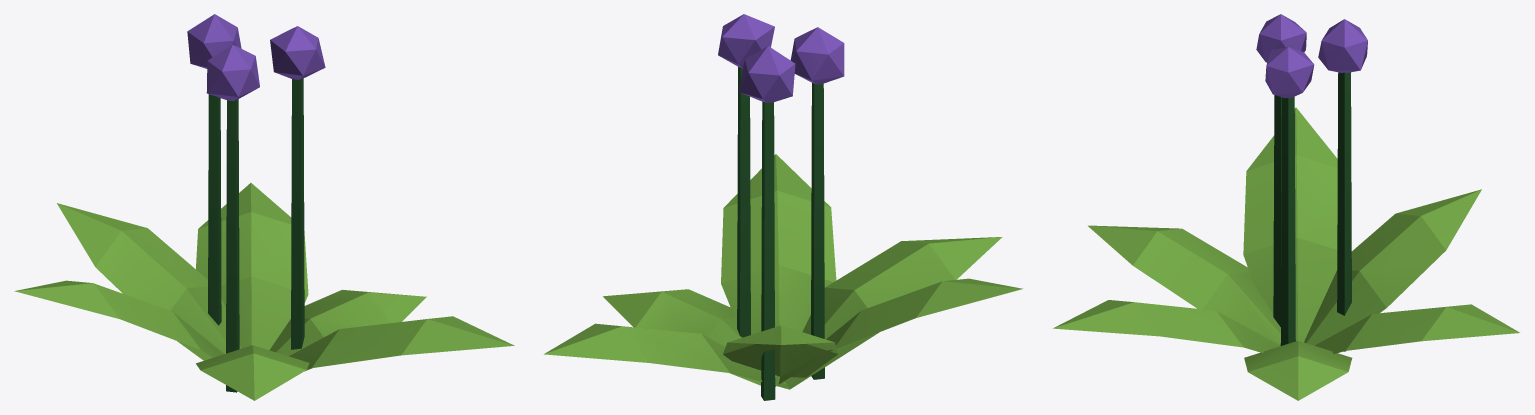
The model's file is HerbPlant.fbx.
3 renders of one model, left to right at view 1: azimuth 30°, elevation 25°; view 2: azimuth 150°, elevation 25°; view 3: azimuth 270°, elevation 25°, orthographic. The views are drawn at different scales.
Parts seen in each view (by area): view 1: HerbPlant; view 2: HerbPlant; view 3: HerbPlant.
Part boxes in pixels (left/top/right/bottom): HerbPlant: left=14, top=14, right=514, bottom=400; HerbPlant: left=544, top=14, right=1022, bottom=400; HerbPlant: left=1053, top=14, right=1519, bottom=400.
Size of the model in its own units: 0.7129 by 0.5809 by 0.7353.
